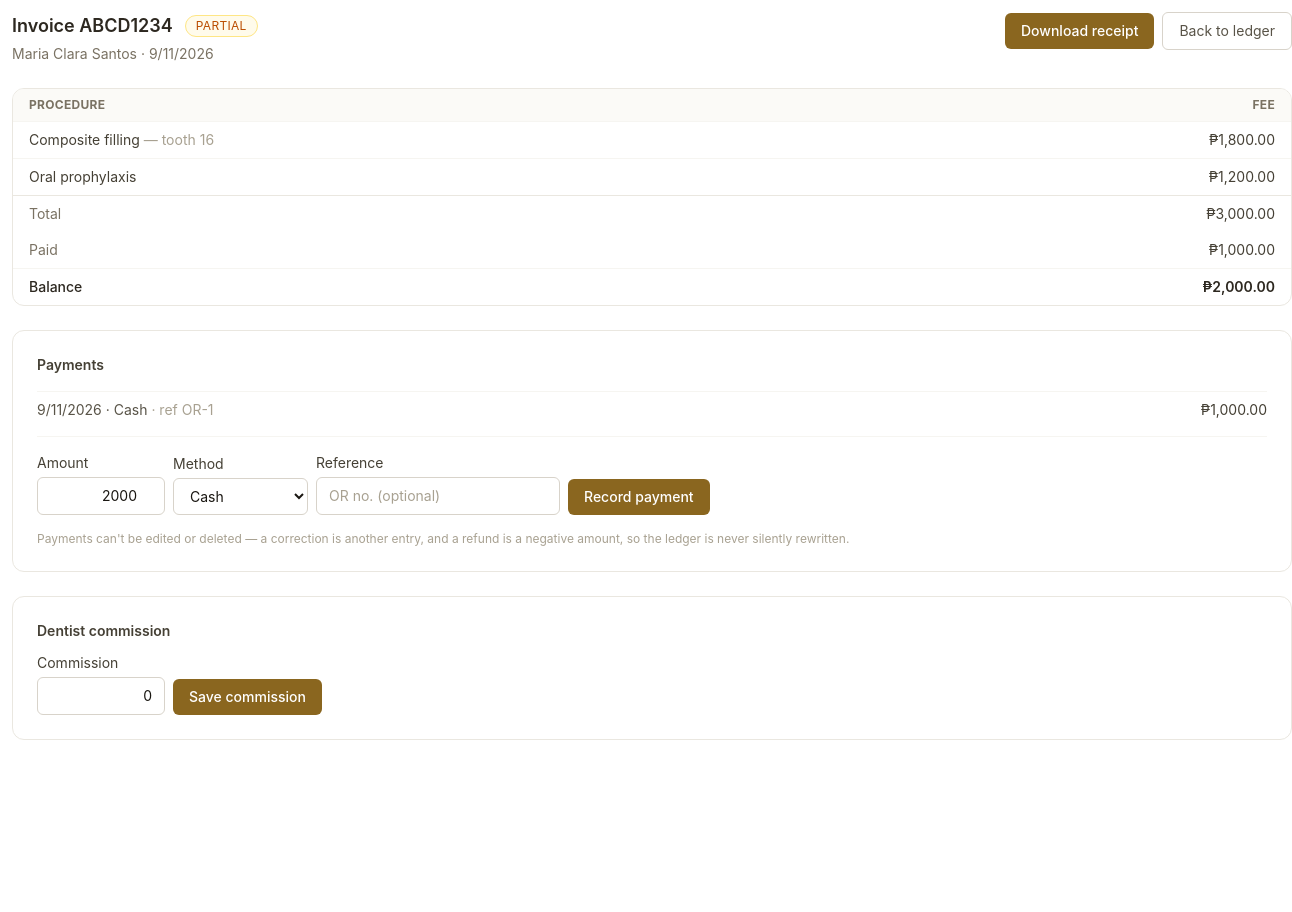
Test: InvoiceDetailPage › commission › keeps the typed commission on screen when the save fails
Check: the text "Composite filling — tooth 16" is shown, box [13,122,876,158]
Replace the text in the field labelled "Commission" with "250" at (101,696), box [37,677,165,715]
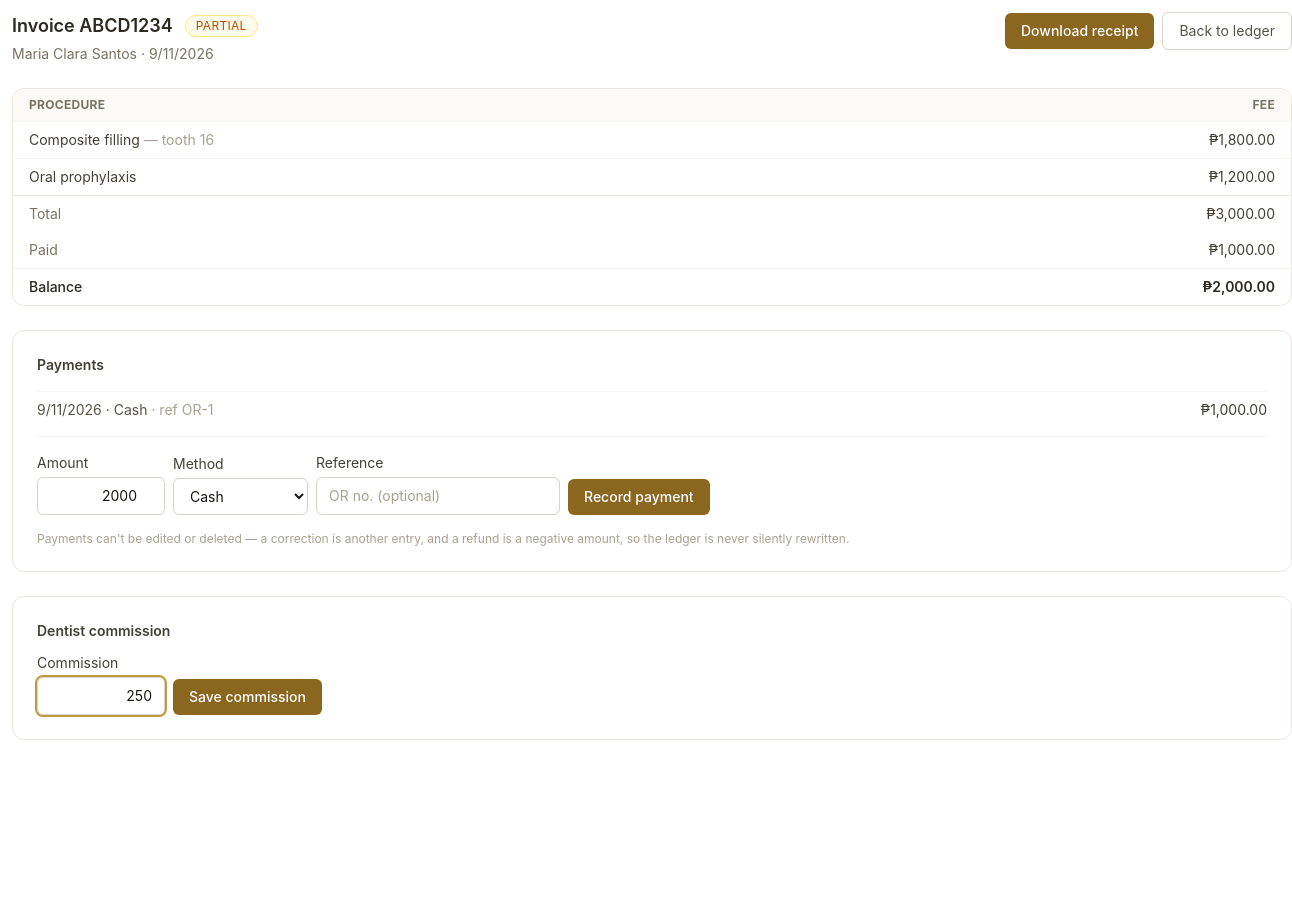
Click the button "Save commission" at (247,697), box [173,679,322,715]
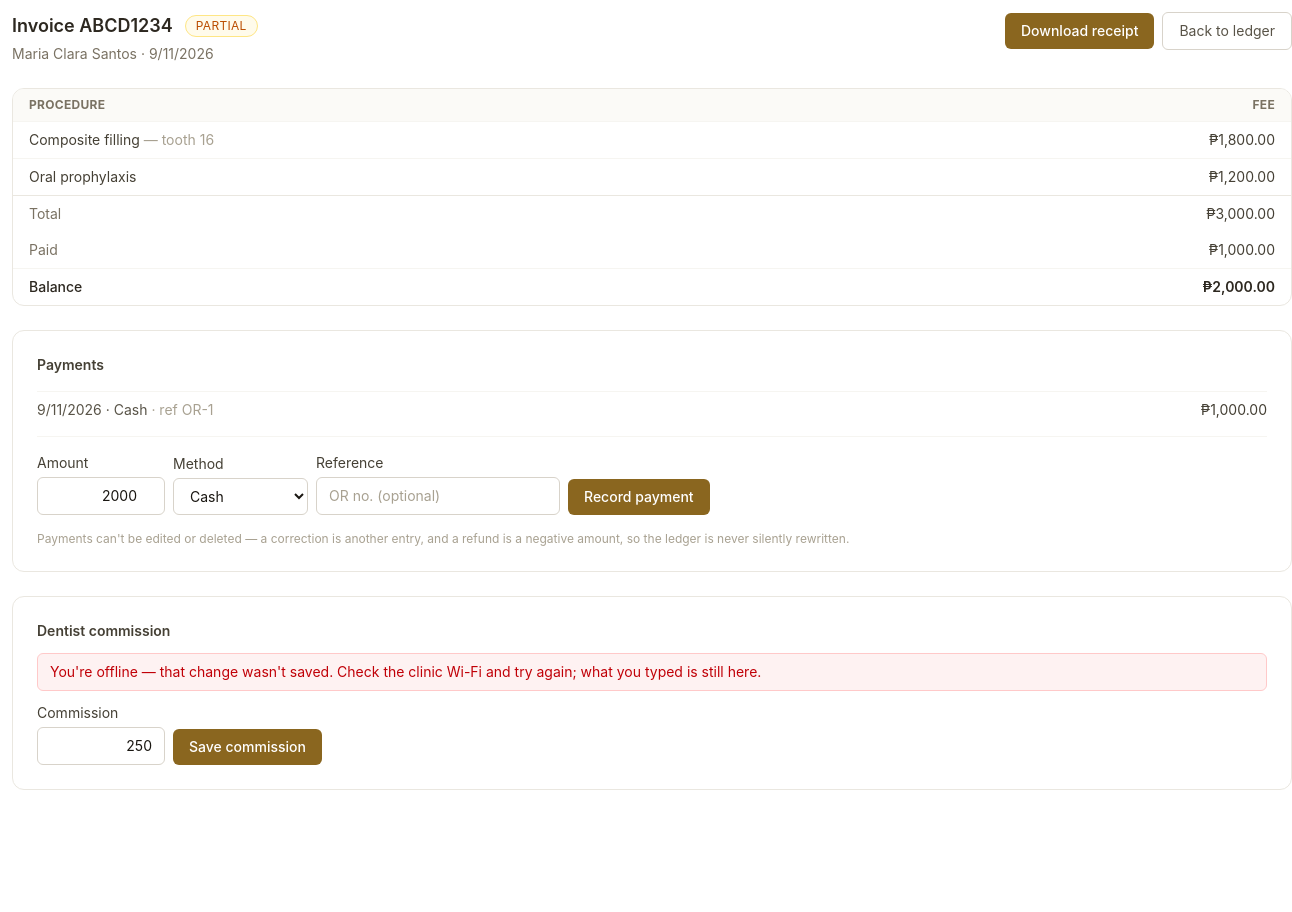
Check: the message shows "You're offline", box [50,663,761,680]
